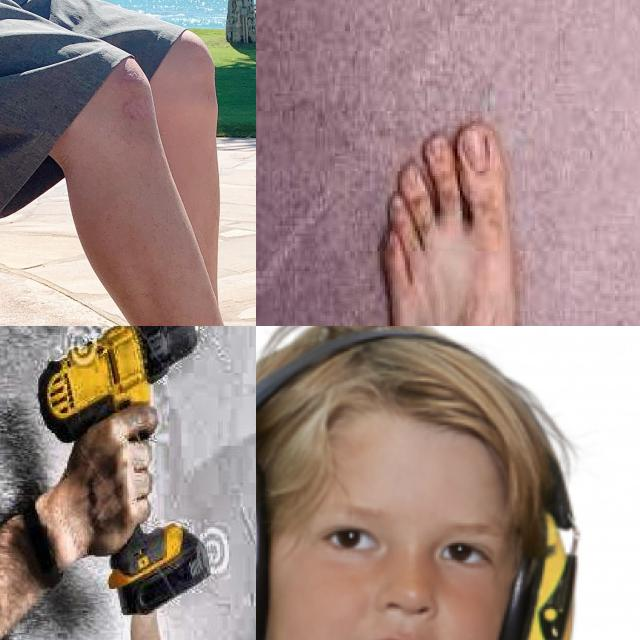Barefoots: (383, 88, 546, 326)
Ear-protection: (444, 480, 595, 640)
No_Glasses: (273, 479, 511, 594)
hand_noglove: (36, 407, 157, 569)
